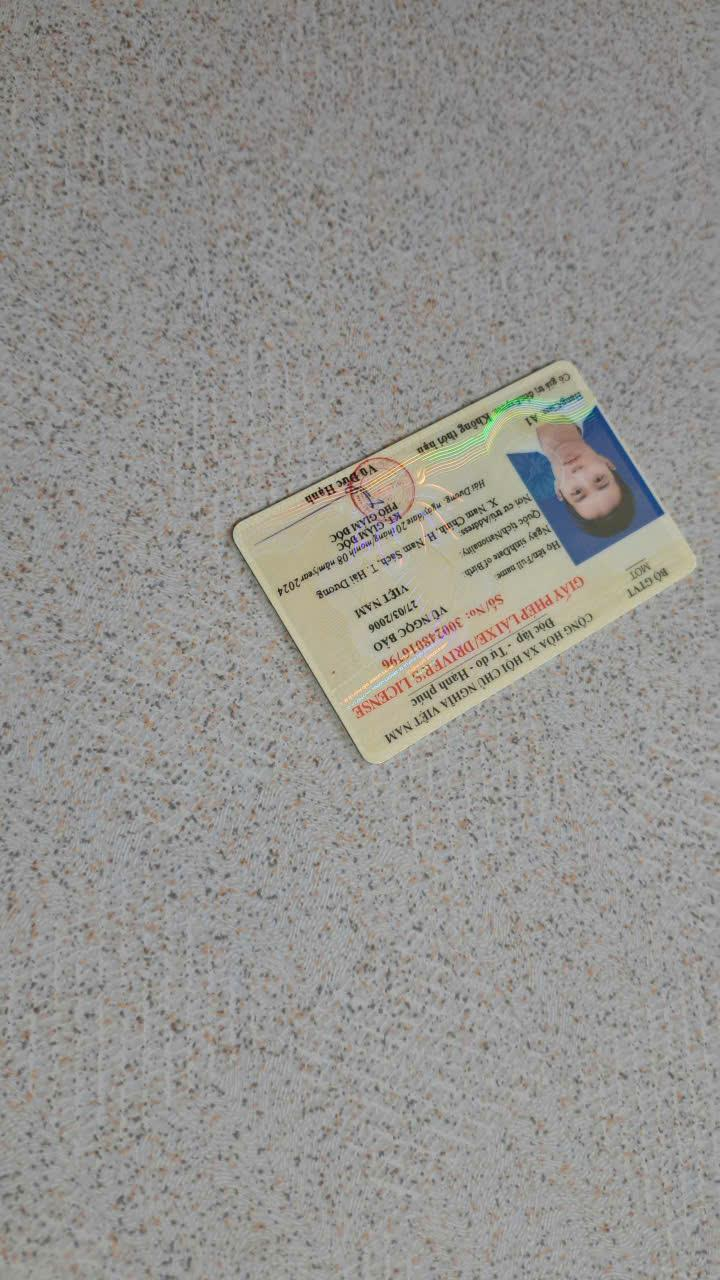gplx: (225, 353, 706, 773)
